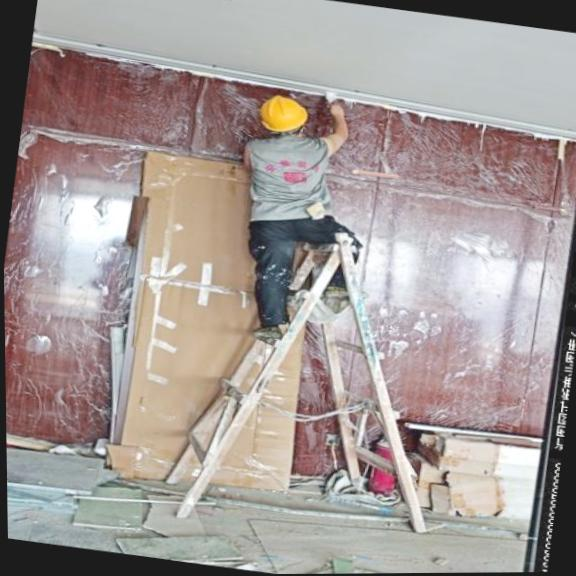no_safety_vest: (234, 125, 340, 230)
